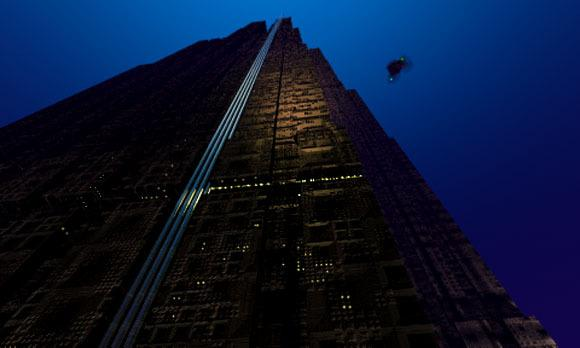building: (1, 16, 563, 348)
